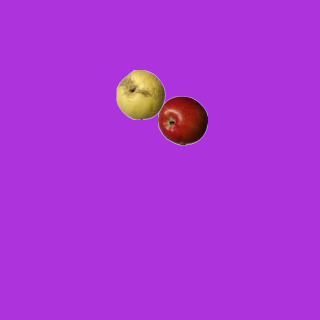Apple Braeburn: (157, 95, 207, 145)
Apple Golden 1: (115, 69, 165, 119)
